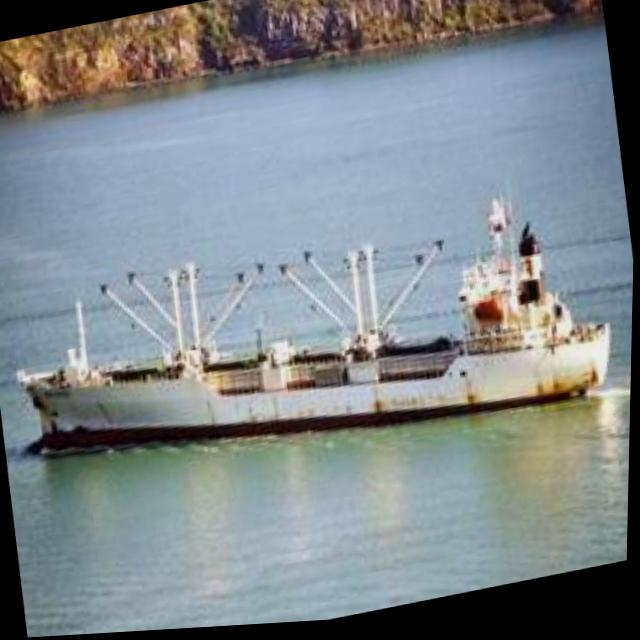ship2: (18, 205, 614, 463)
